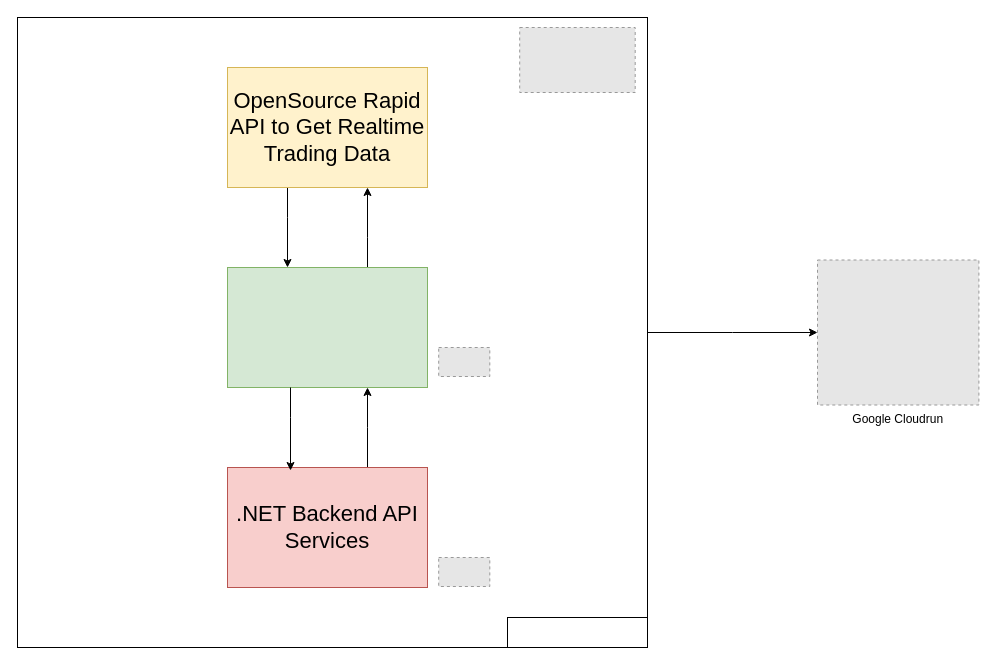
Some shapes in this 997 by 665 pixel diagram are drawn without their labels. Grey dashed boxes stand in for pictures. The box of each missing label's shape, as (x1, y1, x2, y2) in pixels:
INVESTOPIA: (506, 616, 648, 648)
UI/UX Angular WebPage: (226, 266, 428, 388)
